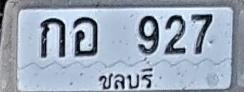2: (164, 14, 186, 54)
7: (191, 13, 212, 54)
9: (138, 15, 158, 54)
A01: (40, 17, 65, 58)
A43: (72, 16, 98, 56)
CBI: (94, 66, 157, 91)
